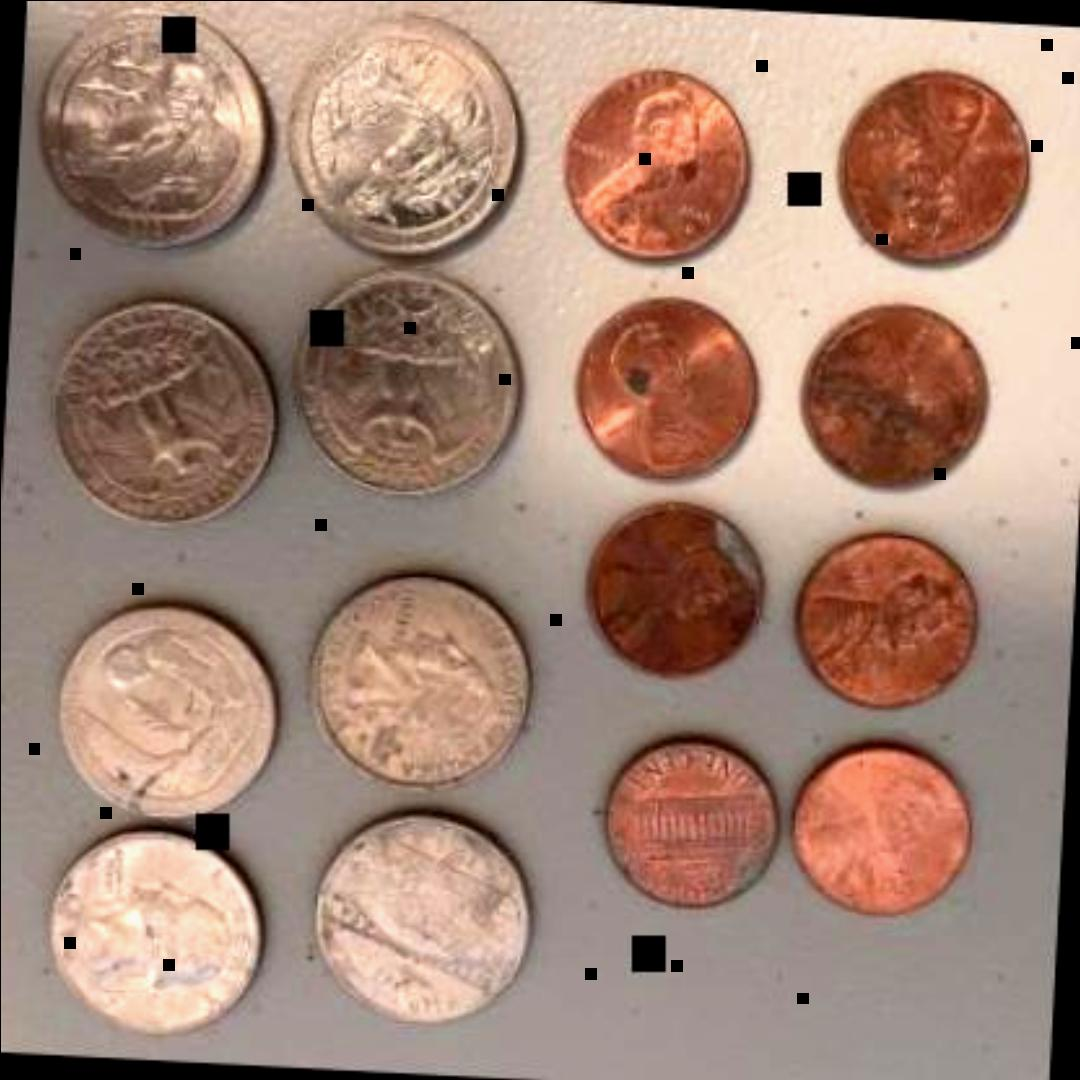Penny: (830, 59, 1040, 274), (571, 288, 773, 490), (558, 69, 760, 271), (805, 301, 1002, 503), (793, 735, 985, 929), (583, 496, 775, 688), (800, 526, 992, 712), (598, 733, 790, 914)
Quarter: (278, 9, 538, 271), (26, 1, 282, 258), (291, 260, 537, 512), (43, 294, 294, 540), (293, 565, 542, 801), (313, 802, 541, 1034), (53, 602, 289, 824), (46, 824, 278, 1046)
